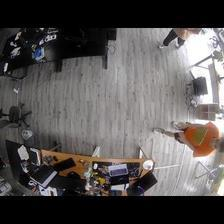normal: (151, 119, 224, 158)
